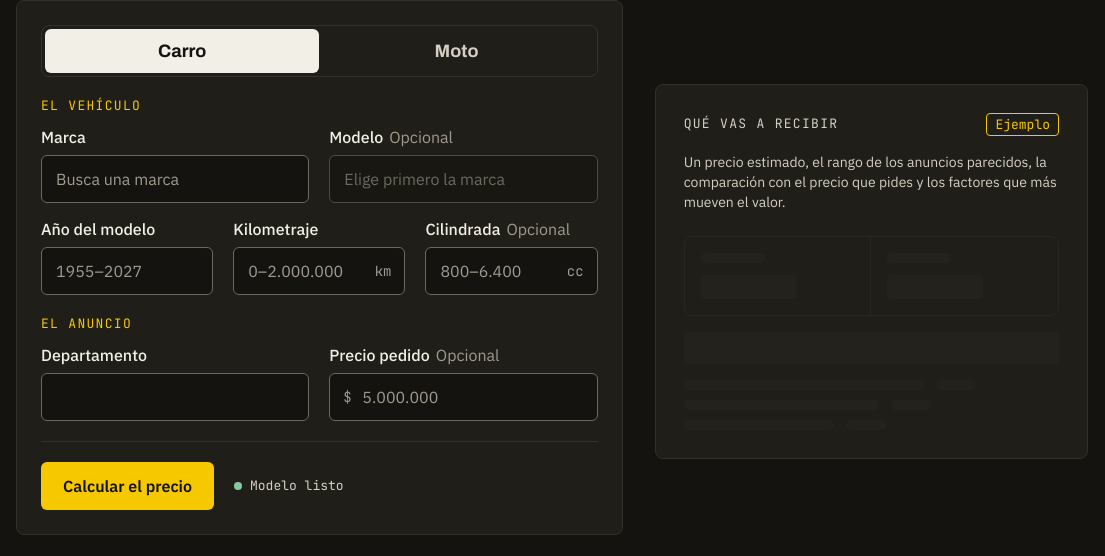
Test: a department the capture has not reached › explains why nothing matched instead of quoting the query back
This screenshot has width=1105, height=556.
Expected: the text "Modelo listo" is shown, 234,477 -> 344,496
Type "nari" into the dropdown labelled "Departamento" at (175, 397), box 41,373 -> 309,421
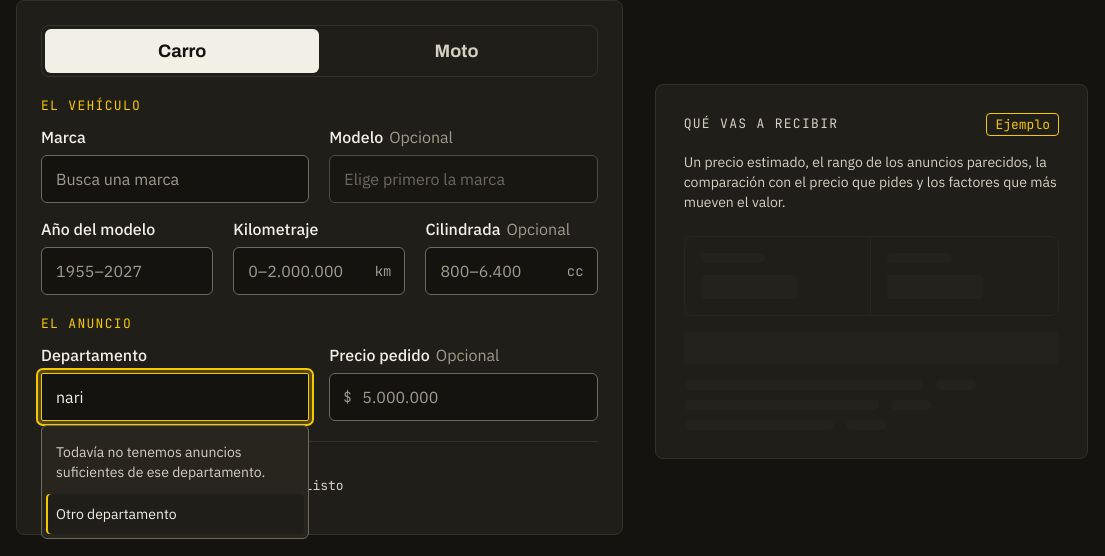
Expected: the text "Todavía no tenemos anuncios suficientes de ese departamento." is shown, 56,443 -> 265,481
